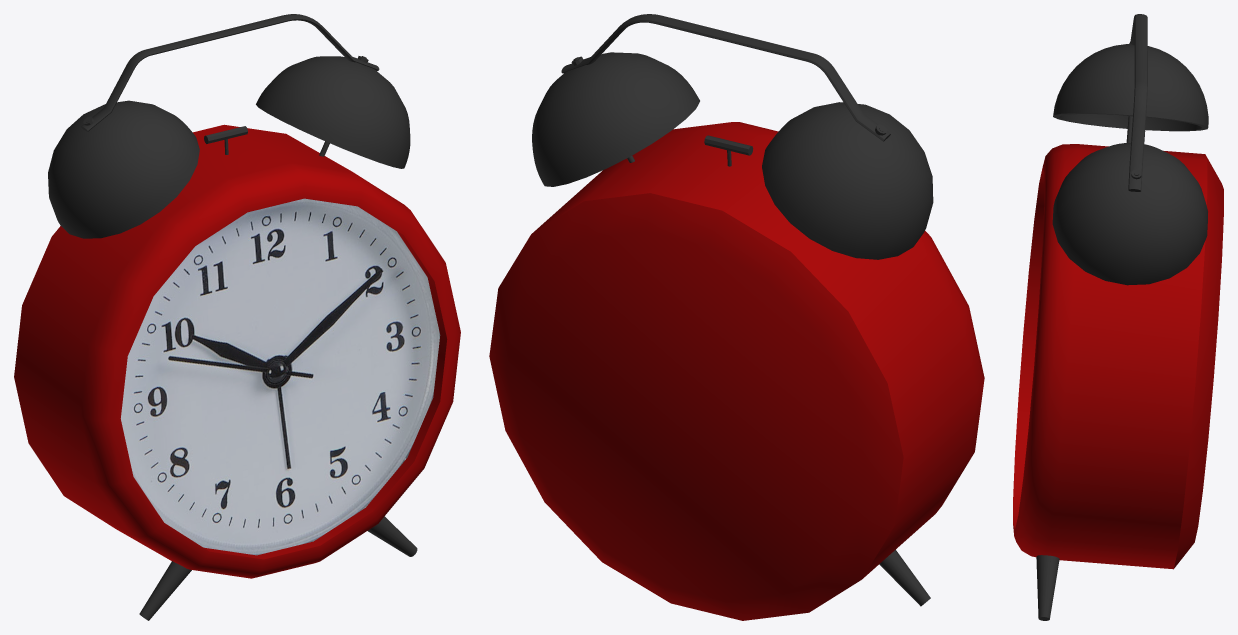
The model's file is Alarm clock.FBX.
3 renders of one model, left to right at view 1: azimuth 30°, elevation 25°; view 2: azimuth 150°, elevation 25°; view 3: azimuth 270°, elevation 25°, orthographic. The views are drawn at different scales.
Visible parts, largest first — view 1: alarm clock; view 2: alarm clock; view 3: alarm clock.
Part boxes in pixels (x1,y1,x2,y2): alarm clock: (14, 14, 460, 620); alarm clock: (489, 14, 984, 620); alarm clock: (1013, 14, 1223, 620).
Bounding box in the file's own units: 11.31 × 15.08 × 5.7.
2 materials, 1 textured.
